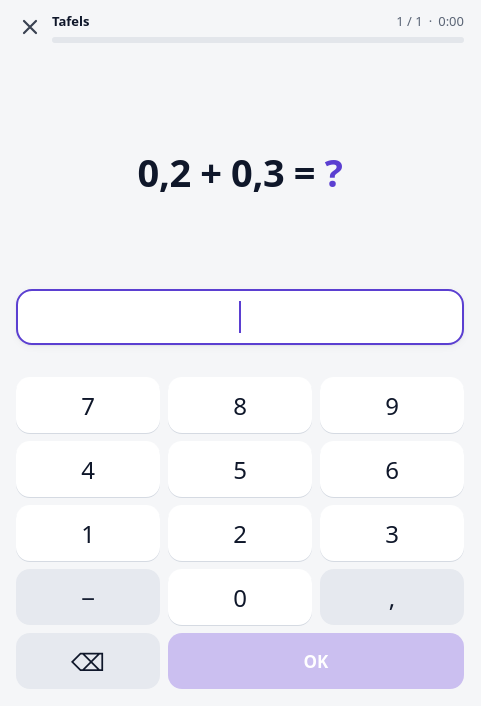
Test: PlayScreen › correct state › shows the typed input, not the normalised one, in the field and the sum
Click the button "0". click: click(240, 597)
box: [168, 569, 312, 625]
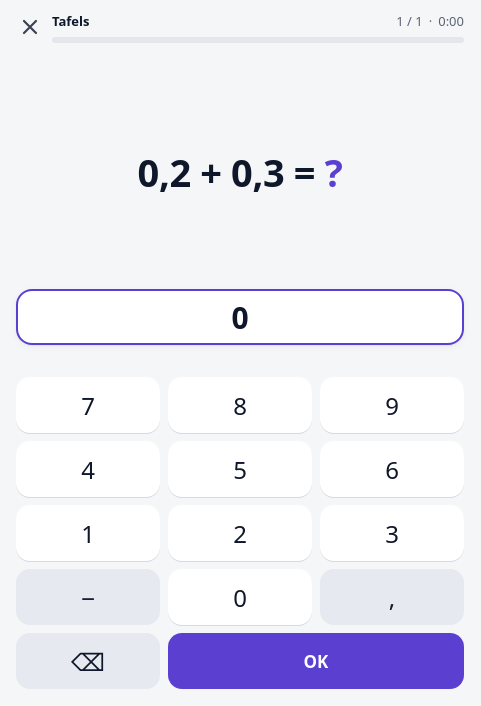
Click the button named "komma". click: click(392, 597)
box: [320, 569, 464, 625]
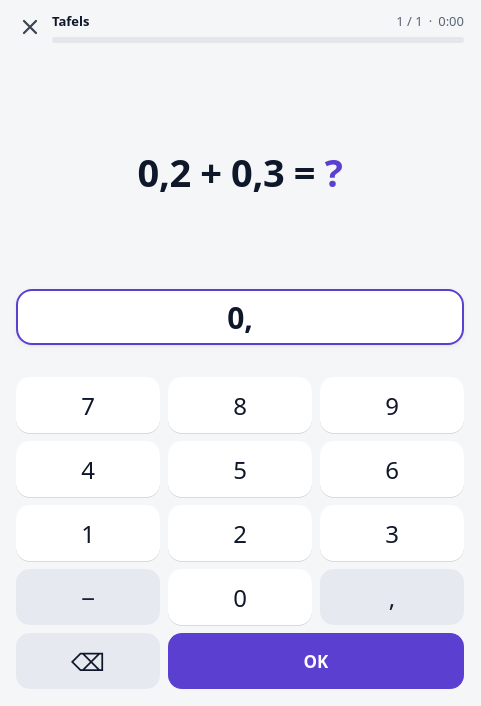
Click the button "5". click: click(240, 469)
box: [168, 441, 312, 497]
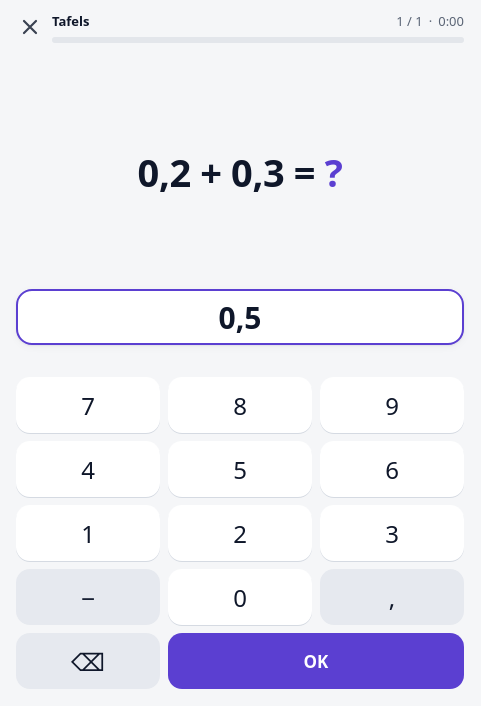
Click the button "0". click: click(240, 597)
box: [168, 569, 312, 625]
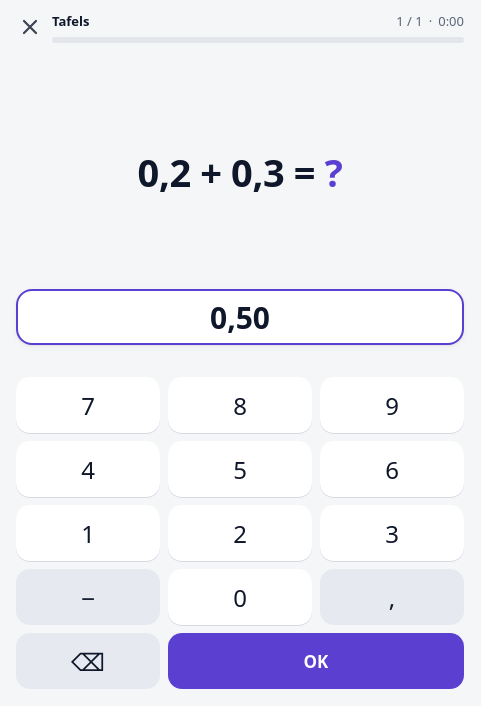
Click the button "OK". click: click(316, 661)
box: [168, 633, 464, 689]
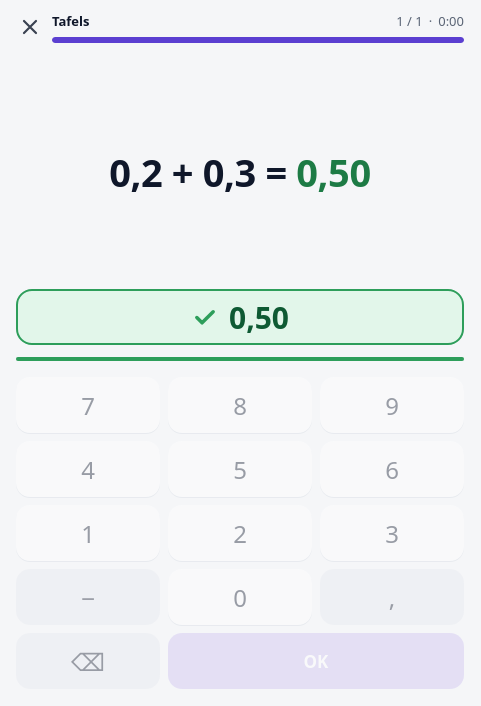
Expected: the element showing "0,50" is shown, [16, 289, 464, 345]
Expected: the element showing "0,2 + 0,3 = 0,50" is shown, [93, 150, 387, 196]
